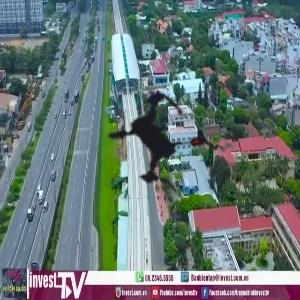drone: (46, 34, 266, 254)
